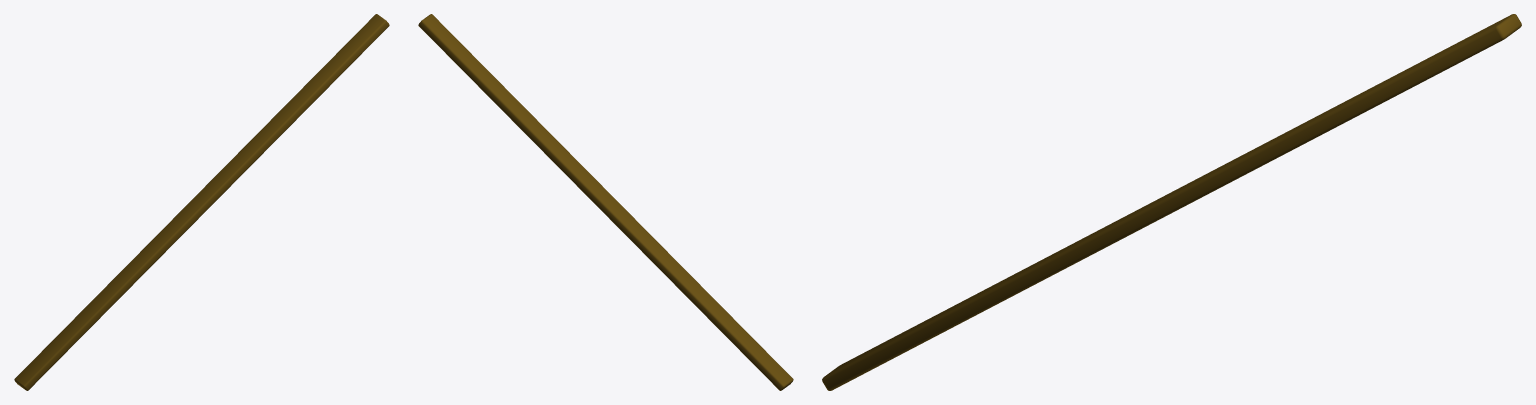
The model's file is FM_H_Doll_SH_Roof_Block_001.fbx.
The picture shows the model from 3 angles, left to right: view 1: azimuth 30°, elevation 25°; view 2: azimuth 150°, elevation 25°; view 3: azimuth 330°, elevation 25°; orthographic projection. The views are drawn at different scales.
Visible parts, largest first — view 1: FM_H_Doll_SH_Roof_Block_001; view 2: FM_H_Doll_SH_Roof_Block_001; view 3: FM_H_Doll_SH_Roof_Block_001.
Boxes of the visible parts, x1=… form: FM_H_Doll_SH_Roof_Block_001: x1=14, y1=14, x2=389, y2=390; FM_H_Doll_SH_Roof_Block_001: x1=418, y1=14, x2=793, y2=390; FM_H_Doll_SH_Roof_Block_001: x1=822, y1=14, x2=1521, y2=390.
Size of the model in its own units: 3.55 by 2.62 by 0.1747.
